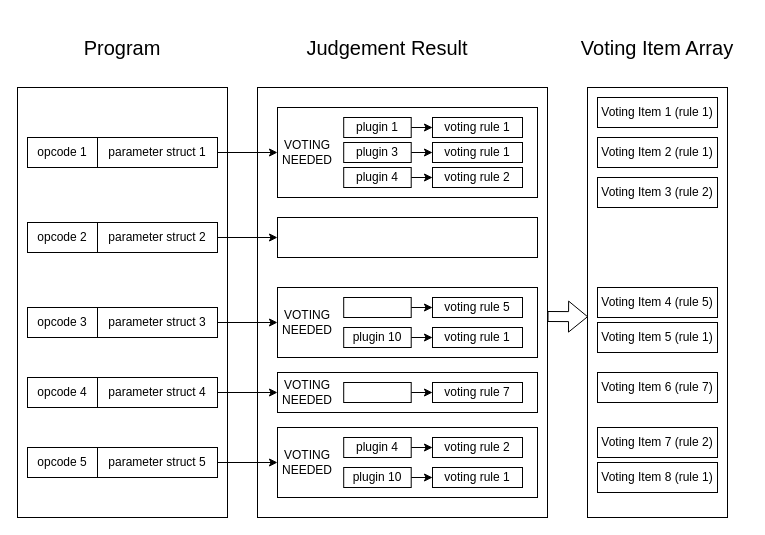
Some shapes in this 765 by 535 pixel diagram are drawn without their labels. The box of each missing label's shape, as (x1, y1, x2, y2) in pixels:
plugin 14: (343, 382, 411, 402)
plugin 7: (343, 296, 411, 318)
YES: (276, 216, 538, 258)
